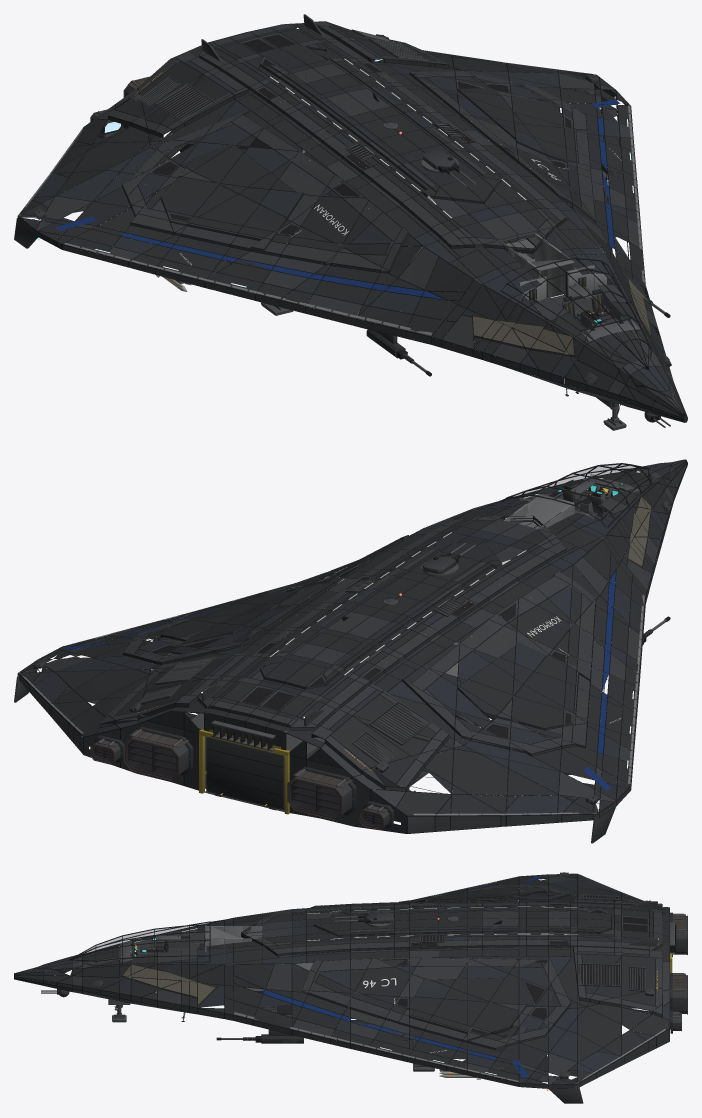
The model's file is Kormoran.1569ae3c2c.glb.
3 renders of one model, top to bottom at view 1: azimuth 30°, elevation 25°; view 2: azimuth 150°, elevation 25°; view 3: azimuth 270°, elevation 25°, orthographic. The views are drawn at different scales.
Visible parts, largest first — view 1: Hitzekragen.004, Duesenblock.008, Klappenfuge.104, Rumpf.003, Antenne.003, Abwurfschiene.002, Akzentbalken.004, Cockpitrueckwand.014, Kantenleiste.060, Deckenkonsole.001, Beschriftung.013, Armlehnenpolster.004; view 2: Hitzekragen.004, Duesenblock.008, Klappenfuge.104, Rumpf.003, Antenne.003, Rampe Aussenhaut.001, Abwurfschiene.002, Duesenrand.004, Akzentbalken.004, Kantenleiste.060, Gangdecke.001, Bodenrand.002 (+3 smaller); view 3: Hitzekragen.004, Duesenblock.008, Klappenfuge.104, Rumpf.003, Antenne.003, Abwurfschiene.002, Akzentbalken.004, Deckenkonsole.001, Kantenleiste.060, Cockpitrueckwand.014, Duesenrand.004, Beschriftung.013 (+4 smaller).
Boxes of the visible parts, x1,y1,x2,y2 form: Hitzekragen.004: (18, 23, 687, 422); Duesenblock.008: (14, 14, 684, 422); Klappenfuge.104: (18, 21, 687, 422); Rumpf.003: (31, 27, 683, 422); Antenne.003: (34, 34, 670, 421); Abwurfschiene.002: (97, 30, 670, 427); Akzentbalken.004: (55, 99, 620, 299); Cockpitrueckwand.014: (302, 149, 606, 301); Kantenleiste.060: (19, 50, 644, 335); Deckenkonsole.001: (568, 278, 639, 341); Beschriftung.013: (180, 58, 621, 265); Armlehnenpolster.004: (529, 276, 609, 322); Hitzekragen.004: (19, 460, 687, 828); Duesenblock.008: (14, 460, 687, 843); Klappenfuge.104: (18, 459, 687, 833); Rumpf.003: (31, 463, 674, 833); Antenne.003: (35, 463, 670, 826); Rampe Aussenhaut.001: (207, 737, 283, 808); Abwurfschiene.002: (97, 542, 666, 812); Duesenrand.004: (35, 503, 669, 830); Akzentbalken.004: (64, 571, 615, 790); Kantenleiste.060: (19, 594, 644, 815); Gangdecke.001: (445, 494, 574, 676); Bodenrand.002: (199, 573, 580, 814); Hitzekragen.004: (14, 873, 672, 1084); Duesenblock.008: (14, 872, 686, 1103); Klappenfuge.104: (14, 873, 669, 1088); Rumpf.003: (15, 877, 669, 1082); Antenne.003: (57, 872, 676, 1078); Abwurfschiene.002: (41, 894, 685, 1071); Akzentbalken.004: (263, 876, 541, 1077); Deckenkonsole.001: (119, 928, 204, 962); Kantenleiste.060: (234, 873, 665, 1083); Cockpitrueckwand.014: (205, 925, 276, 1012); Duesenrand.004: (93, 872, 687, 1078); Beschriftung.013: (307, 895, 577, 1052).
Size of the model in its own units: 34.02 by 7.96 by 46.04.
